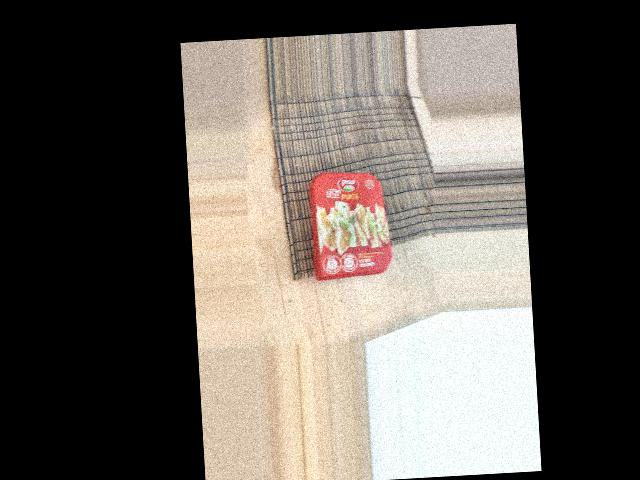cheese: (303, 168, 385, 288)
